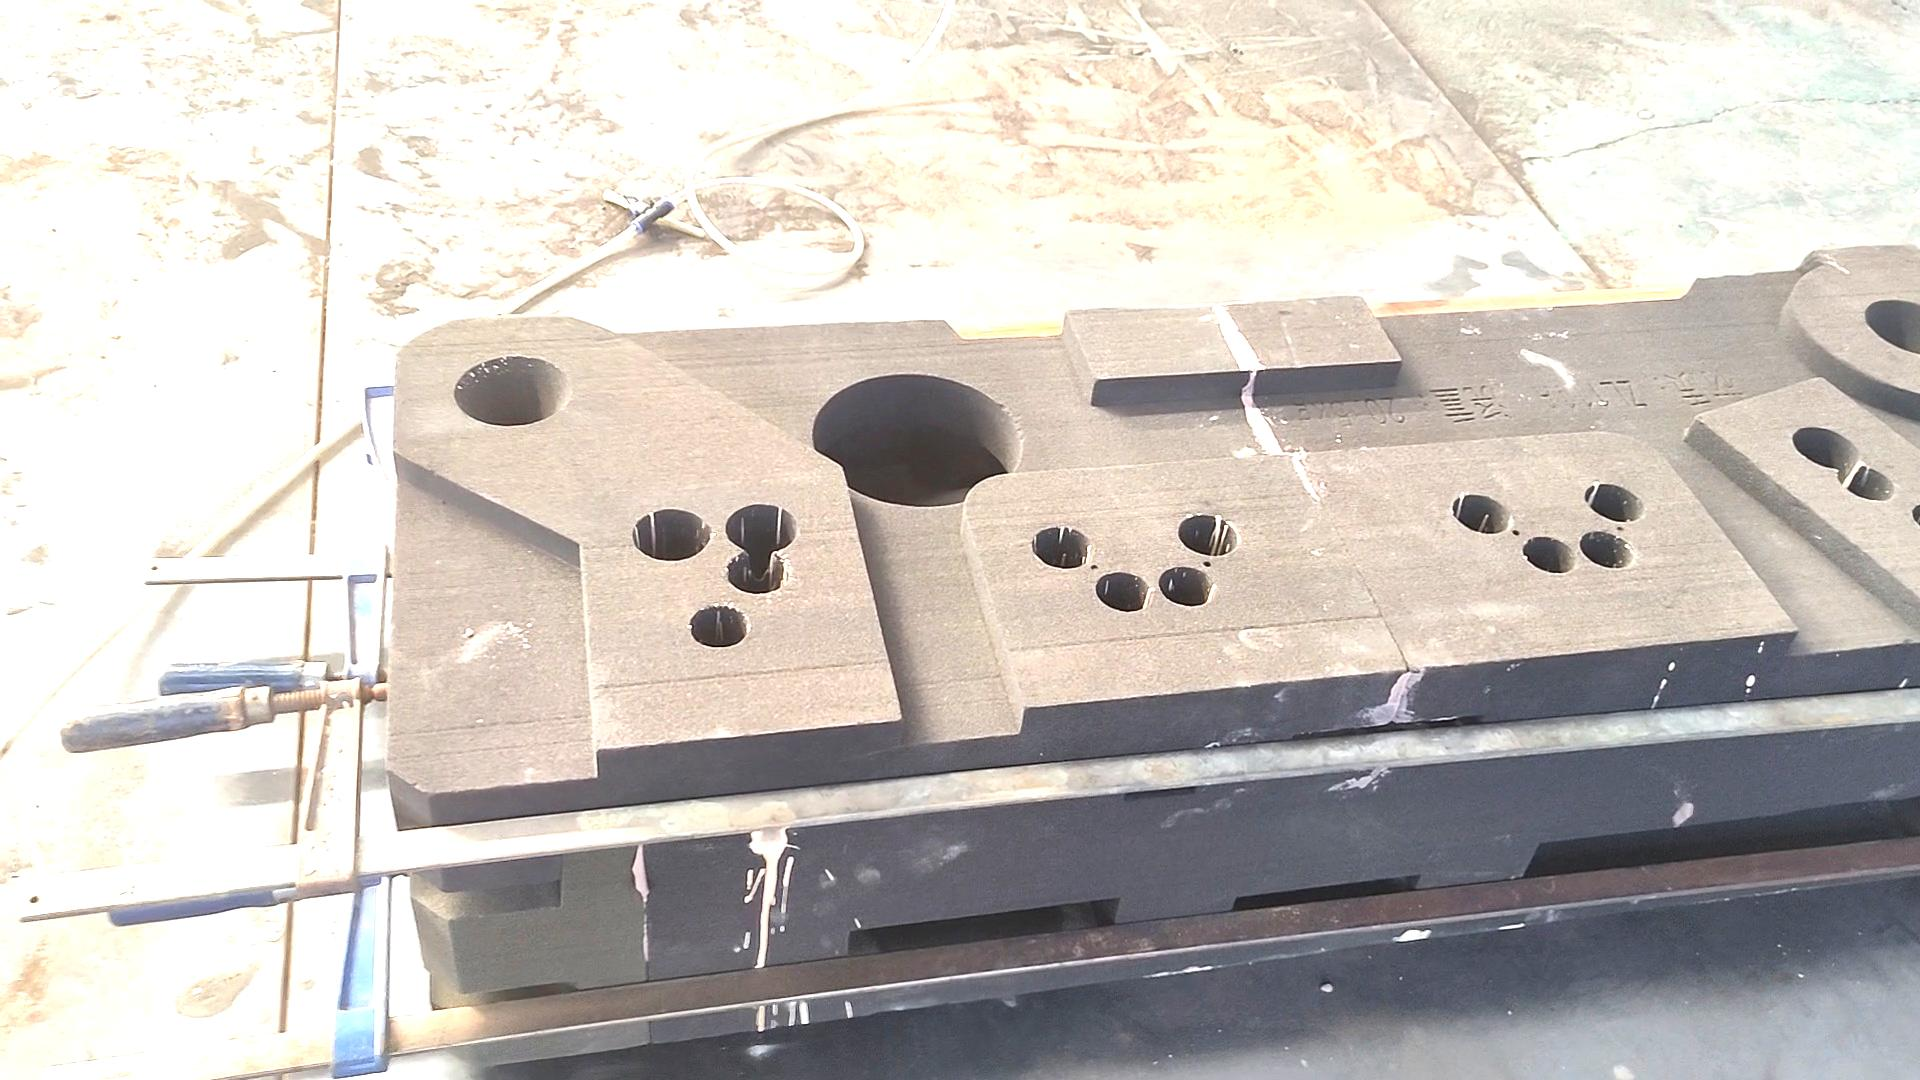pouring hole: (454, 356, 571, 425), (1861, 298, 1920, 356)
